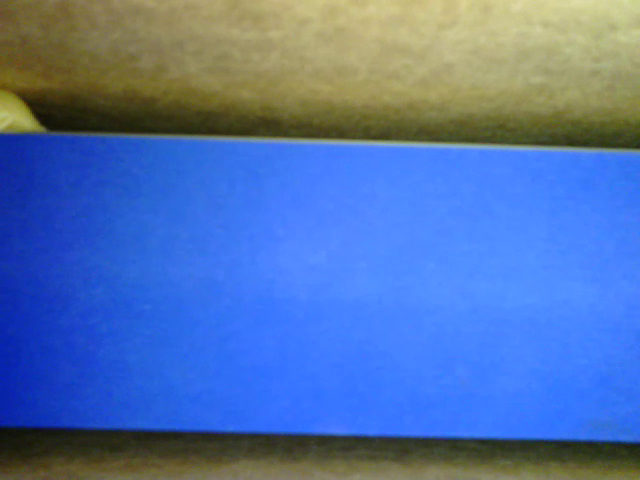elbow: (1, 108, 13, 130)
shell: (1, 89, 48, 134)
